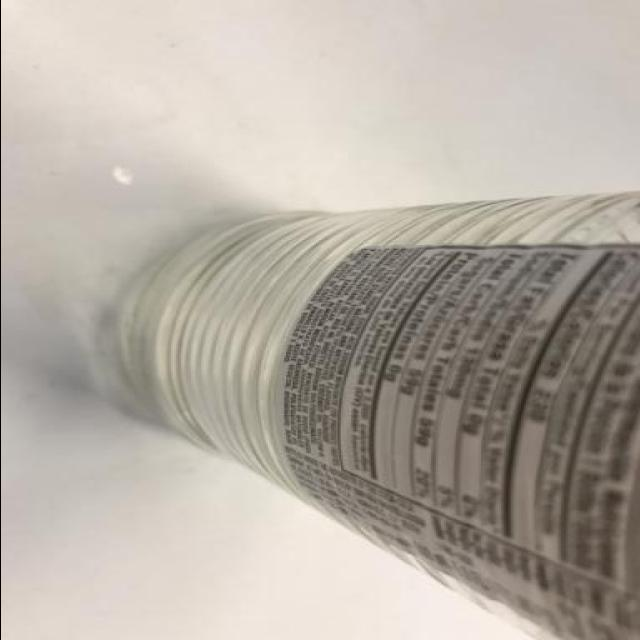glass: (63, 176, 640, 638)
